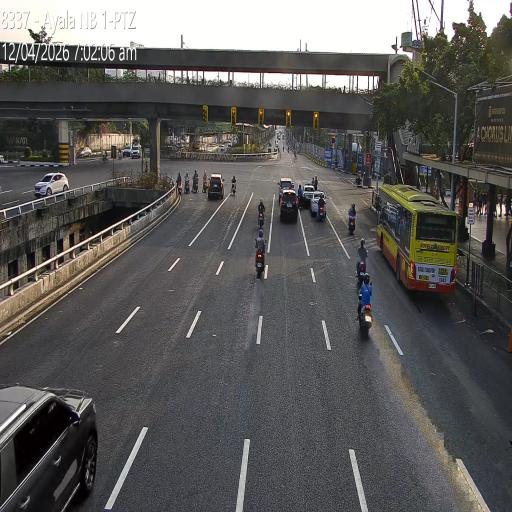Car: (0, 383, 98, 512), (33, 172, 69, 198), (279, 188, 298, 222), (207, 173, 225, 200), (310, 190, 327, 218), (277, 178, 293, 204), (302, 184, 316, 208), (76, 147, 92, 159), (130, 142, 141, 158), (122, 143, 131, 159)
Motor: (355, 272, 372, 325), (355, 238, 368, 285), (254, 238, 265, 278), (348, 202, 357, 230), (191, 168, 200, 196), (296, 182, 303, 211), (175, 172, 183, 196), (184, 170, 191, 196), (353, 170, 363, 188), (257, 208, 265, 228), (202, 170, 208, 194), (230, 180, 236, 194)
Not Accident: (353, 239, 377, 338), (174, 164, 226, 202), (276, 174, 300, 228), (301, 176, 328, 224)
